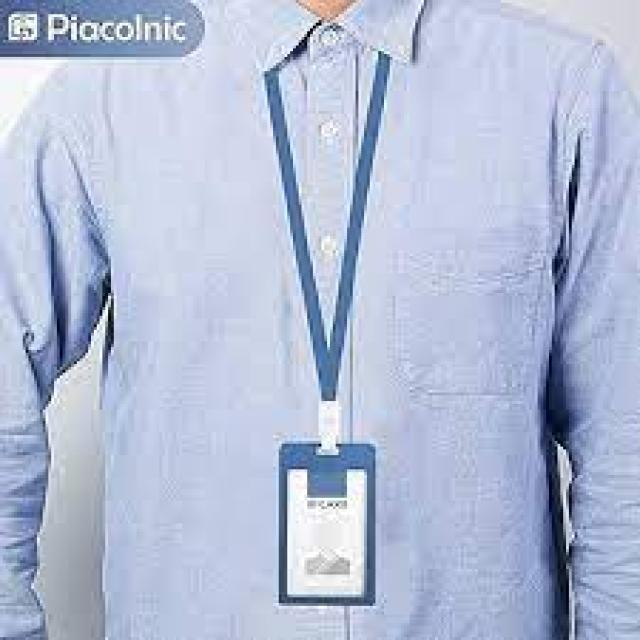id_card: (249, 69, 392, 615)
